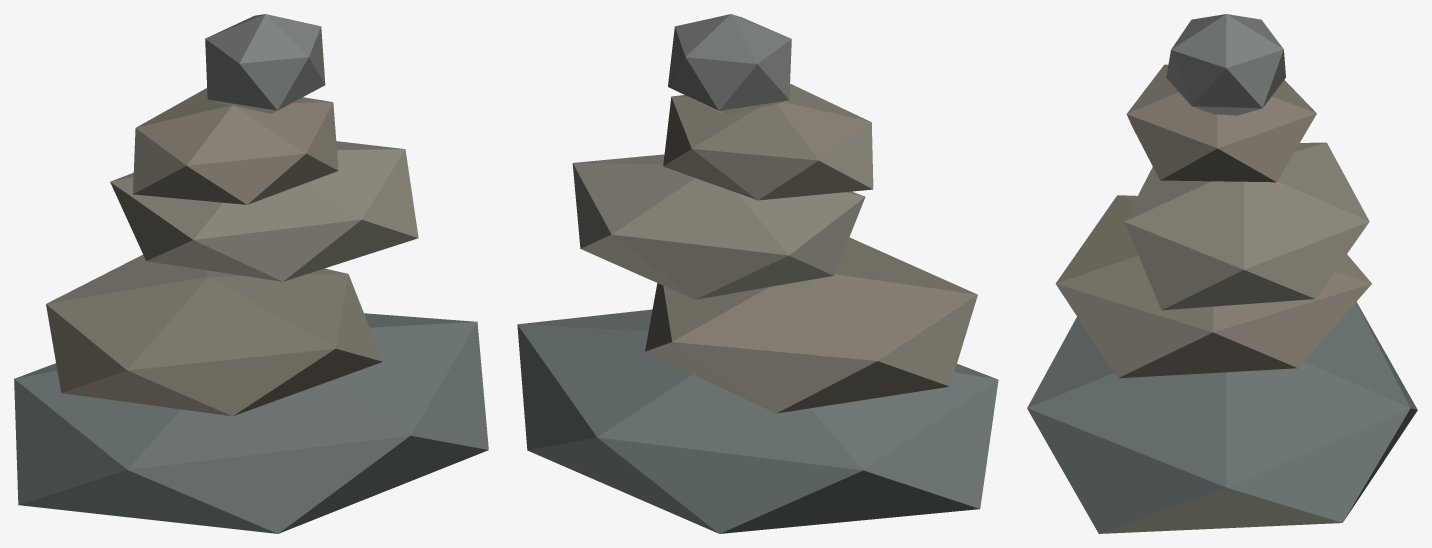
The model's file is waymark.glb.
The picture shows the model from 3 angles, left to right: view 1: azimuth 30°, elevation 25°; view 2: azimuth 150°, elevation 25°; view 3: azimuth 270°, elevation 25°; orthographic projection. The views are drawn at different scales.
Visible parts, largest first — view 1: waymark; view 2: waymark; view 3: waymark.
Boxes of the visible parts, x1,y1,x2,y2 form: waymark: (14,14,488,533); waymark: (517,14,998,533); waymark: (1027,14,1417,533).
Bounding box in the file's own units: 0.616 × 0.5945 × 0.4438.
